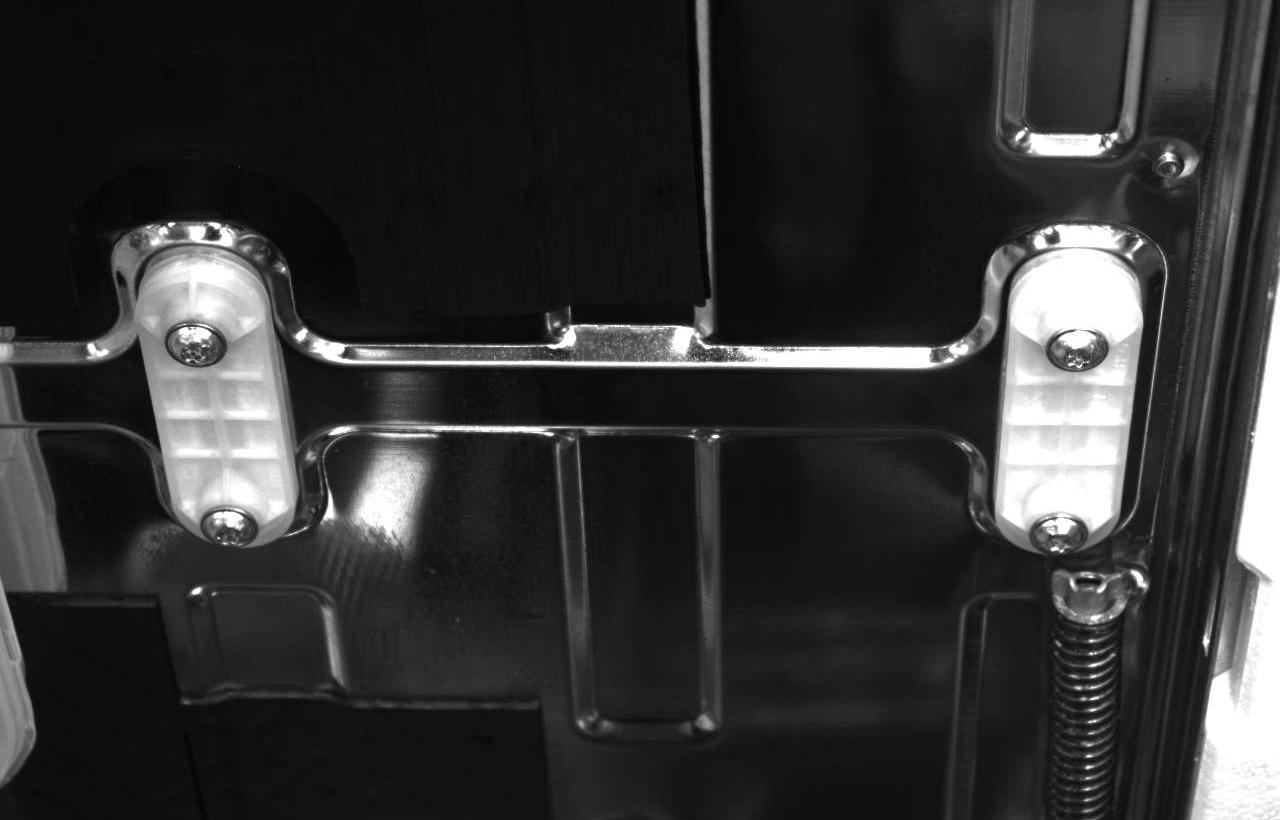vida-ok: (159, 312, 230, 379), (1041, 315, 1109, 382), (194, 495, 260, 554), (1027, 499, 1093, 558)
